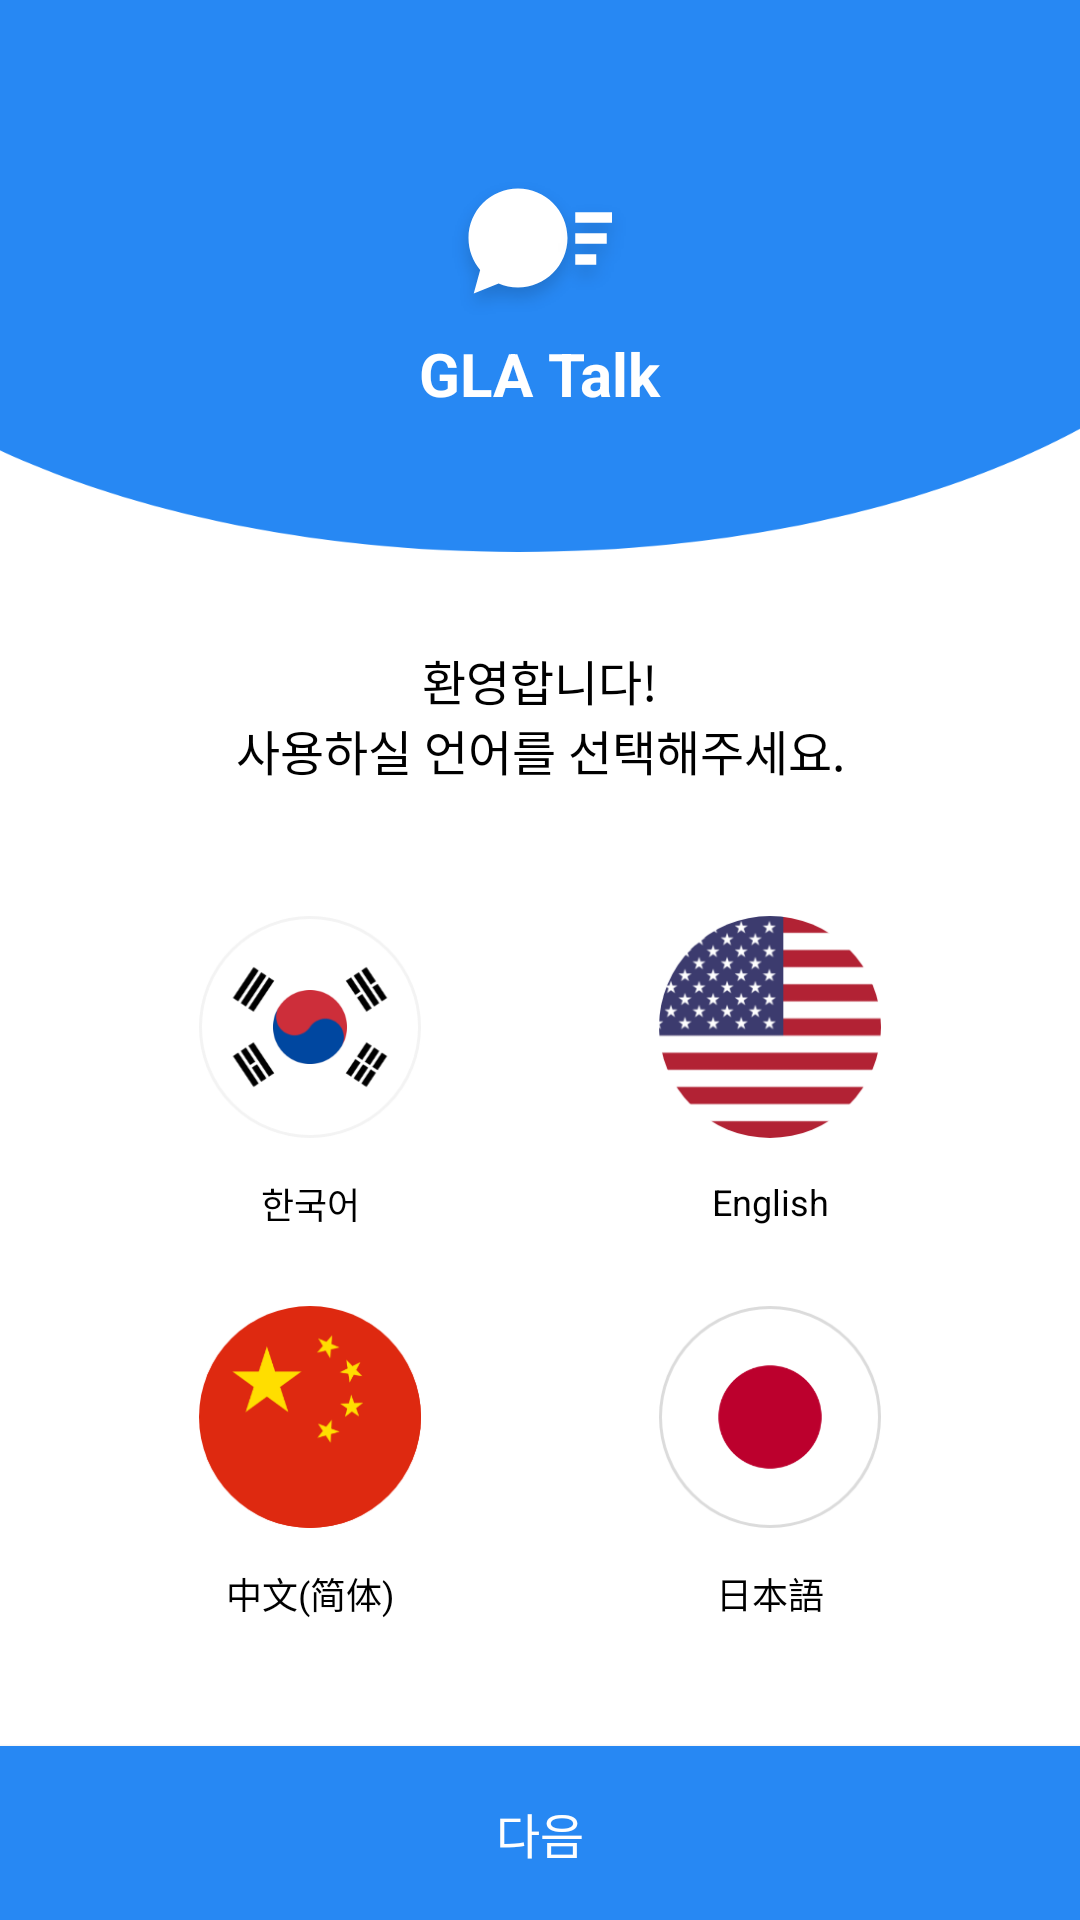

Icon bounding boxes for this 1080px x 1920px phone screenshot, format (x1, y1, x2, y2):
korea nor: (232, 967, 388, 1087)
